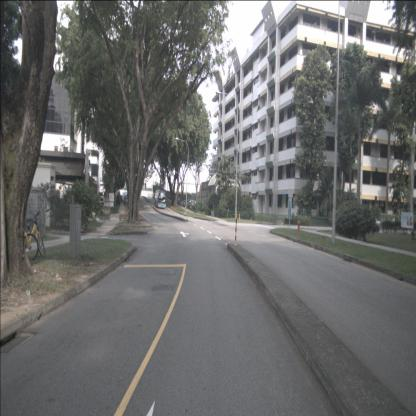human-pedestrian-adult: (121, 196, 122, 206)
movable_object-trafficcone: (238, 213, 241, 221)
vehicle-bicycle: (13, 211, 46, 260), (1, 219, 38, 261)
vehicle-bus-rigid: (155, 189, 166, 209)
